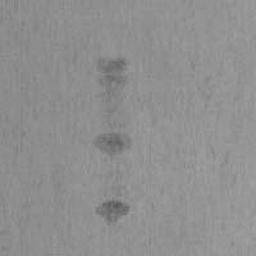Oil spot: (90, 55, 134, 229)
